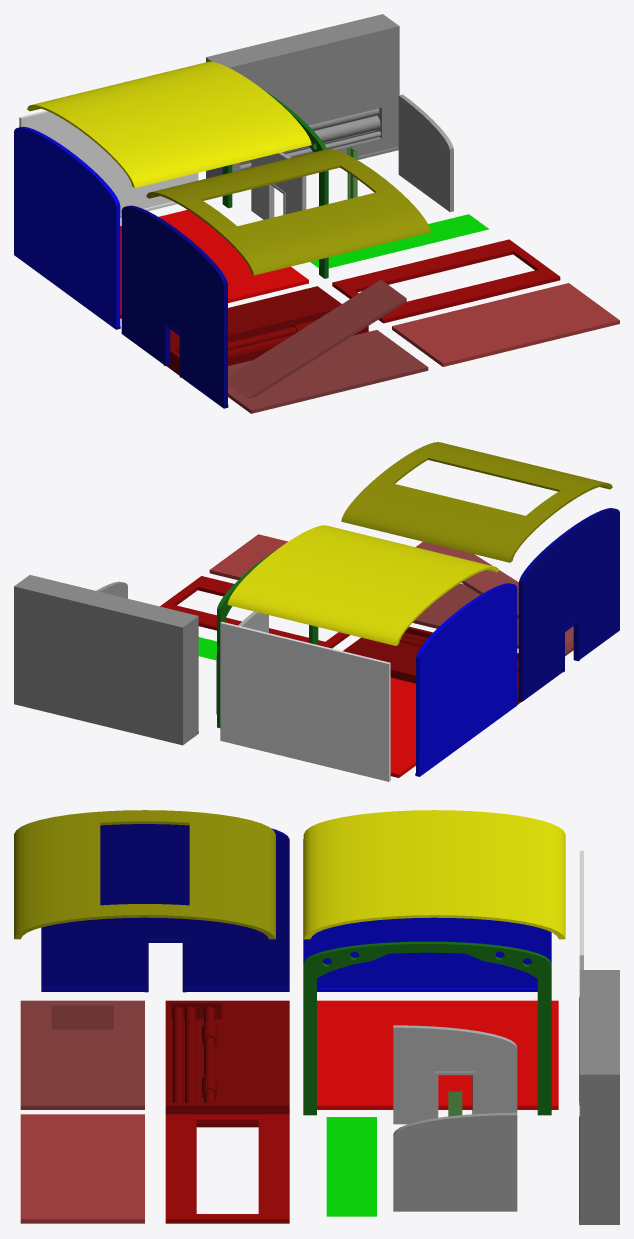
Rendered from Carriage Parts.fbx.
The picture shows the model from 3 angles, top to bottom: view 1: azimuth 30°, elevation 25°; view 2: azimuth 150°, elevation 25°; view 3: azimuth 270°, elevation 25°; orthographic projection. The views are drawn at different scales.
Parts seen in each view (by area): view 1: GEO_Carriage_Roof, GEO_Carriage_Wall_Pipes, GEO_Carriage_Roof_Skylight, GEO_Carriage_End, GEO_Carriage_End_Door, GEO_Carriage_FloorHalf_Ramp, GEO_Carriage_FloorHalf, GEO_Carriage_FloorHalf_Open, GEO_Carriage_FloorHalf_Pipes, GEO_Carriage_Wall_Half, GEO_Carriage_Floor, GEO_Carriage_Wall (+3 smaller); view 2: GEO_Carriage_Wall_Pipes, GEO_Carriage_Wall, GEO_Carriage_Roof, GEO_Carriage_Roof_Skylight, GEO_Carriage_End, GEO_Carriage_End_Door, GEO_Carriage_FloorHalf_Ramp, GEO_Carriage_Floor, GEO_Carriage_FloorHalf_Pipes, GEO_Carriage_FloorHalf_Open, GEO_Carriage_FloorHalf, GEO_Carriage_Support (+1 smaller); view 3: GEO_Carriage_Roof, GEO_Carriage_End_Door, GEO_Carriage_Roof_Skylight, GEO_Carriage_Floor, GEO_Carriage_FloorHalf_Pipes, GEO_Carriage_FloorHalf, GEO_Carriage_FloorHalf_Ramp, GEO_Carriage_End, GEO_Carriage_Wall_Half, GEO_Carriage_Wall_Pipes, GEO_Carriage_Wall_Half_Door, GEO_Carriage_FloorHalf_Open (+3 smaller).
Part boxes in pixels (<box>): GEO_Carriage_Roof: <box>27,61,311,187</box>; GEO_Carriage_Wall_Pipes: <box>206,14,399,178</box>; GEO_Carriage_Roof_Skylight: <box>146,149,430,275</box>; GEO_Carriage_End: <box>14,126,120,329</box>; GEO_Carriage_End_Door: <box>121,205,228,408</box>; GEO_Carriage_FloorHalf_Ramp: <box>228,280,428,413</box>; GEO_Carriage_FloorHalf: <box>392,283,619,366</box>; GEO_Carriage_FloorHalf_Open: <box>332,239,560,323</box>; GEO_Carriage_FloorHalf_Pipes: <box>166,286,368,375</box>; GEO_Carriage_Wall_Half: <box>398,94,453,211</box>; GEO_Carriage_Floor: <box>120,210,308,318</box>; GEO_Carriage_Wall: <box>19,110,198,217</box>; GEO_Carriage_Wall_Pipes: <box>14,575,198,745</box>; GEO_Carriage_Wall: <box>220,621,390,781</box>; GEO_Carriage_Roof: <box>227,525,498,645</box>; GEO_Carriage_Roof_Skylight: <box>341,442,612,562</box>; GEO_Carriage_End: <box>415,583,517,776</box>; GEO_Carriage_End_Door: <box>518,508,619,701</box>; GEO_Carriage_FloorHalf_Ramp: <box>412,541,573,656</box>; GEO_Carriage_Floor: <box>390,677,415,777</box>; GEO_Carriage_FloorHalf_Pipes: <box>343,626,521,704</box>; GEO_Carriage_FloorHalf_Open: <box>160,576,349,648</box>; GEO_Carriage_FloorHalf: <box>209,534,287,579</box>; GEO_Carriage_Support: <box>217,549,318,727</box>; GEO_Carriage_Roof: <box>303,810,565,939</box>; GEO_Carriage_End_Door: <box>41,824,289,992</box>; GEO_Carriage_Roof_Skylight: <box>14,810,275,939</box>; GEO_Carriage_Floor: <box>317,1000,558,1109</box>; GEO_Carriage_FloorHalf_Pipes: <box>165,1000,289,1127</box>; GEO_Carriage_FloorHalf: <box>20,1114,144,1223</box>; GEO_Carriage_FloorHalf_Ramp: <box>20,1000,144,1109</box>; GEO_Carriage_End: <box>303,839,551,991</box>; GEO_Carriage_Wall_Half: <box>393,1112,517,1211</box>; GEO_Carriage_Wall_Pipes: <box>579,970,619,1224</box>; GEO_Carriage_Wall_Half_Door: <box>393,1025,517,1124</box>; GEO_Carriage_FloorHalf_Open: <box>165,1114,289,1223</box>.
Bounding box in the file's own units: 2157 × 905 × 2343.
